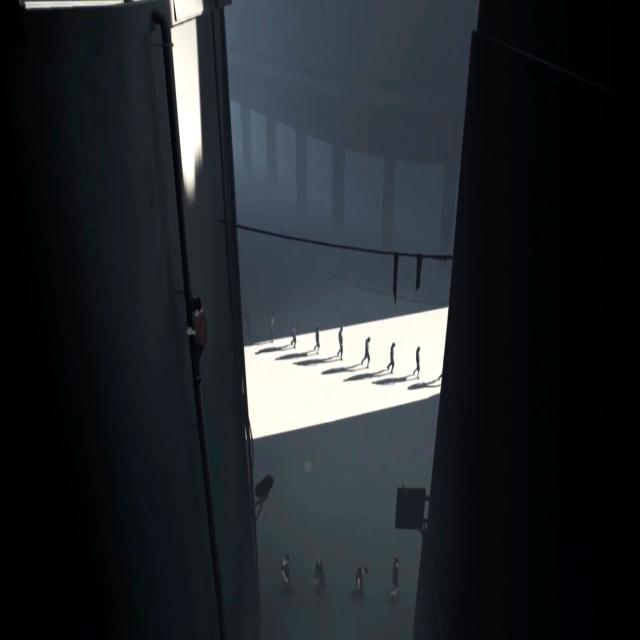boy: (187, 296, 208, 386)
zombie: (352, 566, 368, 599), (390, 558, 400, 602), (314, 558, 326, 594), (387, 340, 395, 379), (282, 553, 290, 590), (269, 312, 276, 349), (364, 336, 371, 369), (245, 309, 251, 342), (315, 327, 320, 358), (291, 323, 296, 353), (338, 325, 342, 362), (416, 347, 420, 376)
